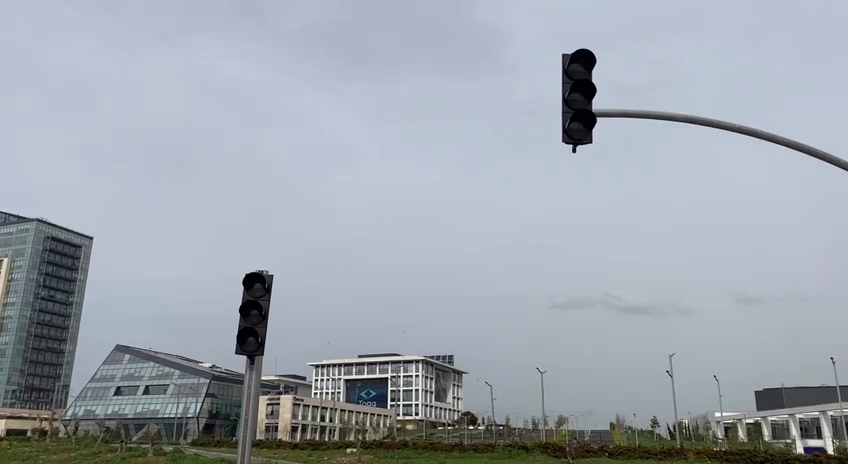trafficLight: (556, 44, 602, 155), (232, 266, 276, 365)
